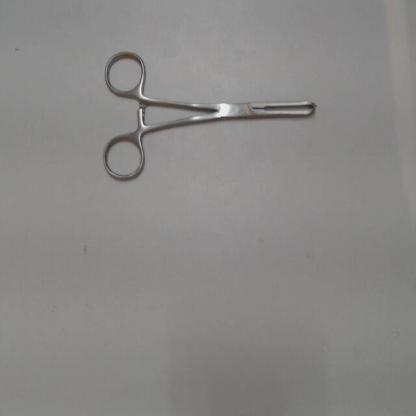Allis Tissue Forceps: (100, 43, 331, 193)
